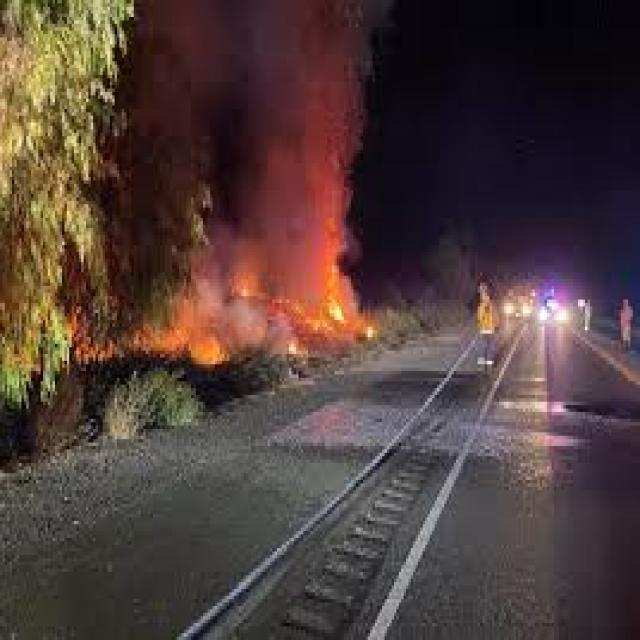Fire: (222, 270, 364, 358)
Smoke: (120, 0, 386, 267)
